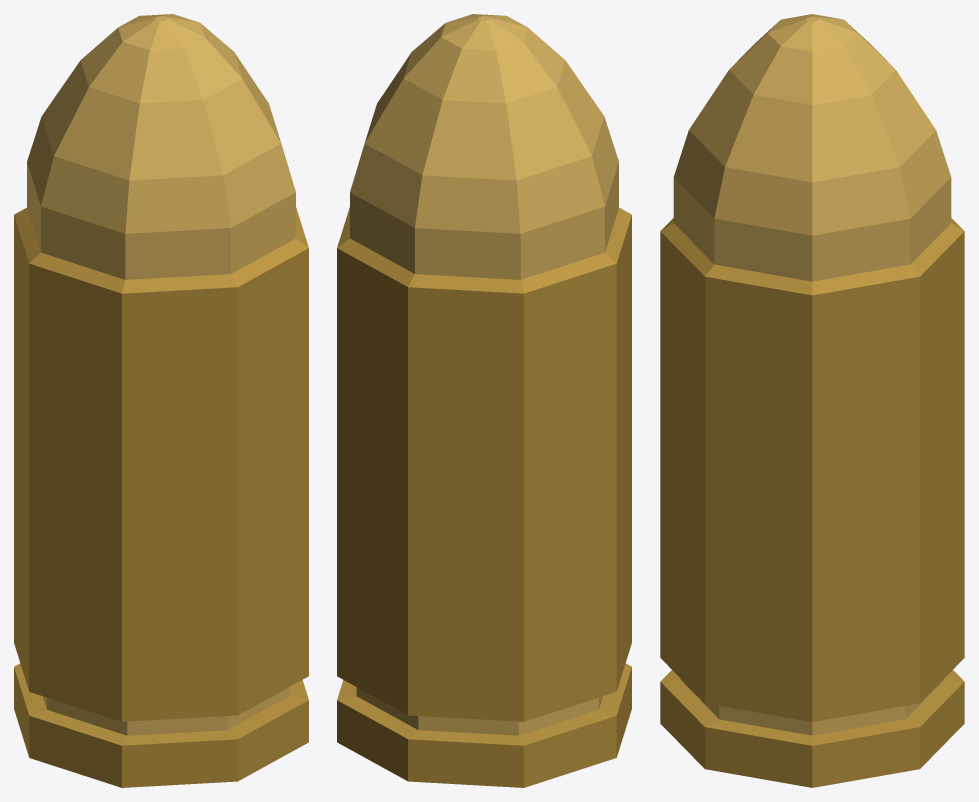
File: bullet.fbx
3 renders of one model, left to right at view 1: azimuth 30°, elevation 25°; view 2: azimuth 150°, elevation 25°; view 3: azimuth 270°, elevation 25°, orthographic.
Parts seen in each view (by area): view 1: bullet; view 2: bullet; view 3: bullet.
Part boxes in pixels (bbox=[...]): bullet: bbox=[14, 14, 308, 787]; bullet: bbox=[337, 14, 631, 787]; bullet: bbox=[660, 14, 964, 787].
Size of the model in its own units: 6.22 by 15.9 by 6.22.
Materials: 1 (1 with a texture image).
